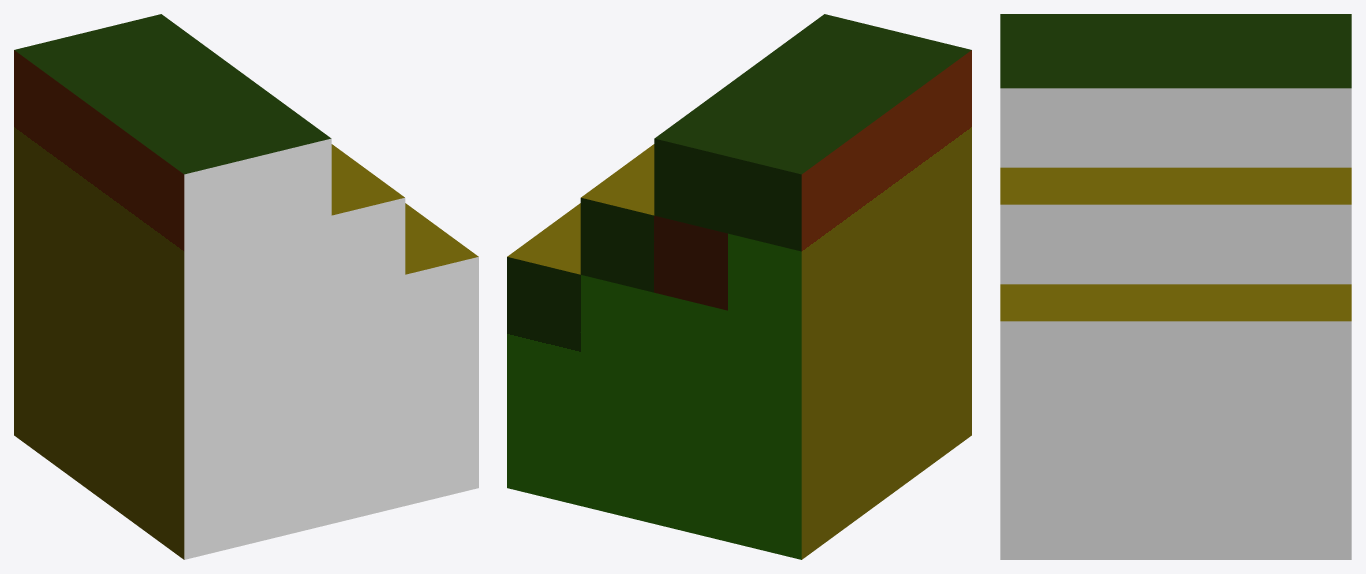
The model's file is block_23.fbx.
3 renders of one model, left to right at view 1: azimuth 30°, elevation 25°; view 2: azimuth 150°, elevation 25°; view 3: azimuth 270°, elevation 25°, orthographic. The views are drawn at different scales.
Visible parts, largest first — view 1: box; view 2: box; view 3: box.
Part boxes in pixels (x1,y1,x2,y2): box: (14, 14, 478, 559); box: (507, 14, 971, 559); box: (1000, 14, 1351, 559).
Size of the model in its own units: 4 by 4 by 5.
1 material, 1 textured.
